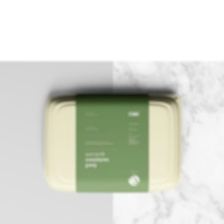plastic_box: (34, 85, 188, 200)
